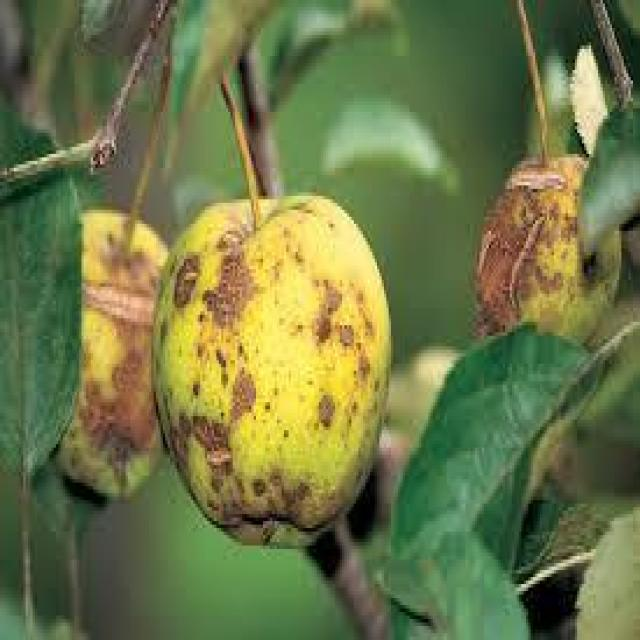maca: (149, 189, 391, 545), (51, 206, 170, 500)
